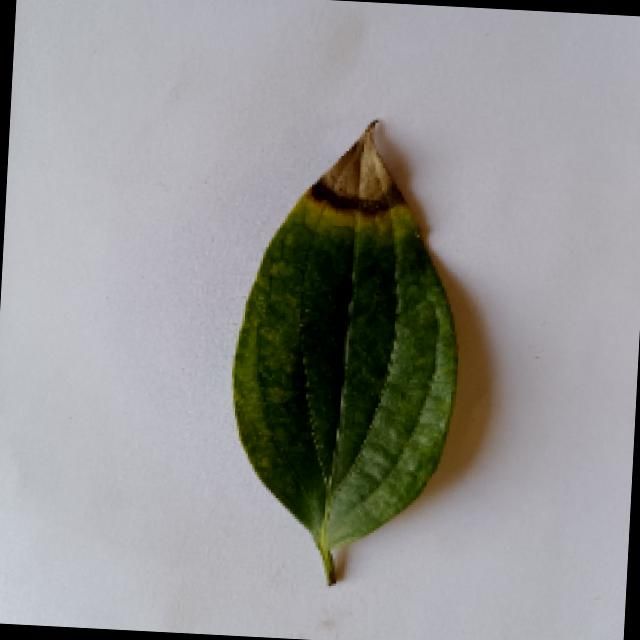footrot: (219, 111, 478, 590)
